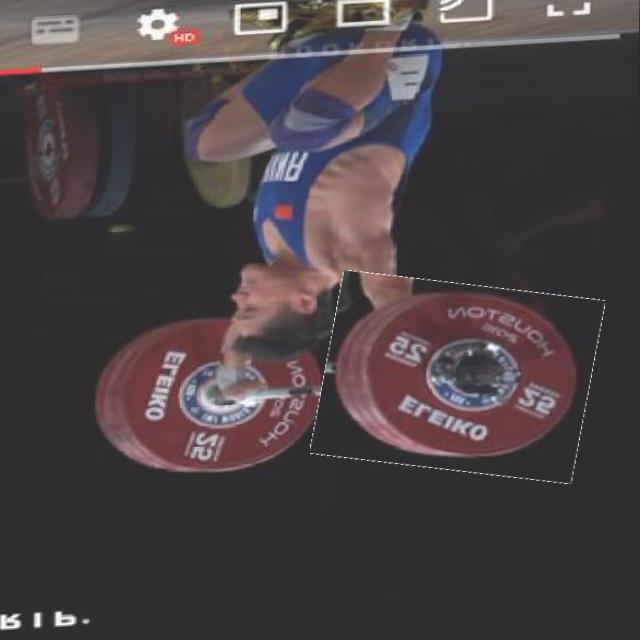barbell: (319, 274, 601, 492)
